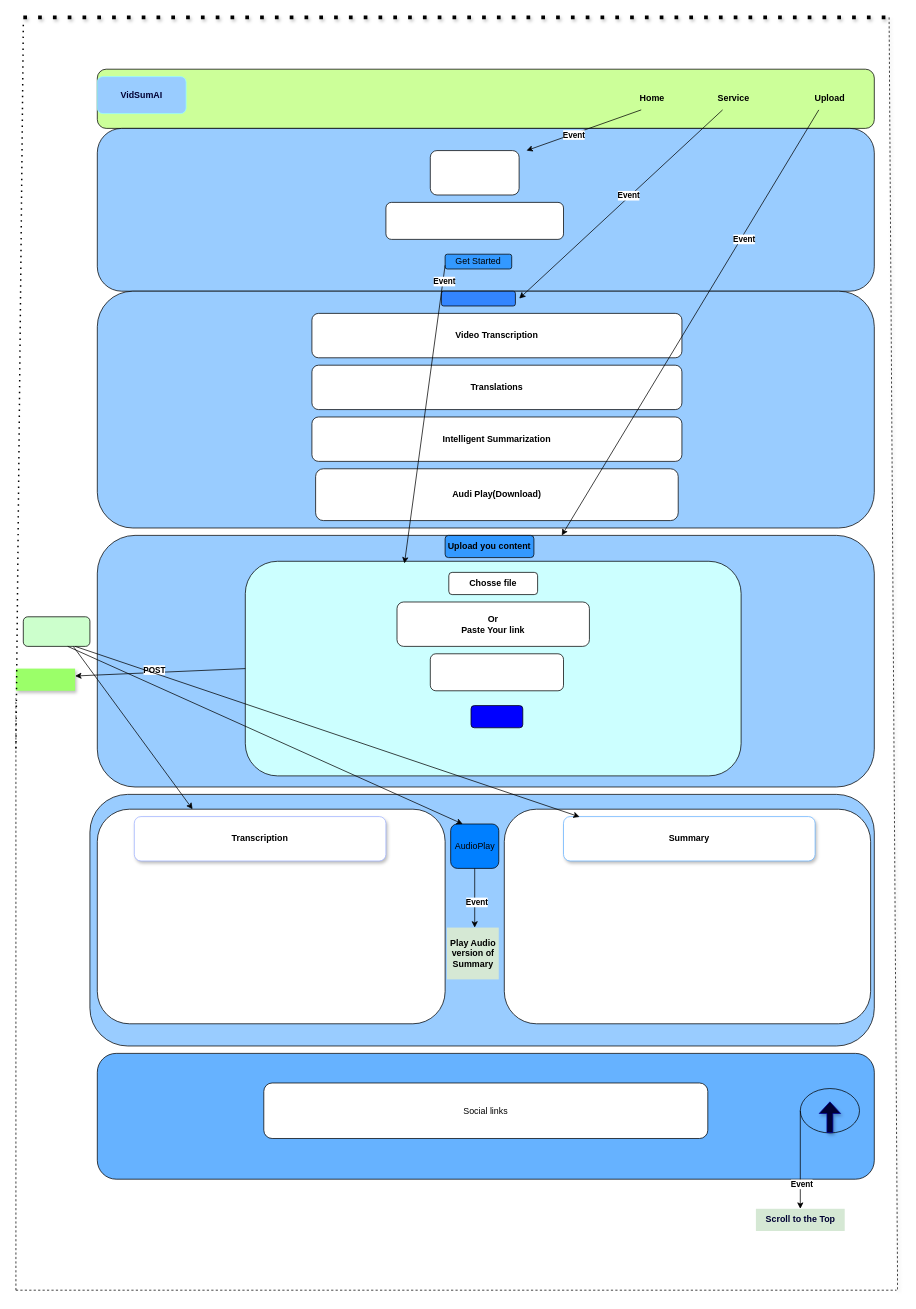
This 916x1309 diagram has some shape labels left out. Each missing label, with the centre of its shape:
api/Submit/: pixel 56 631
Form Data: pixel 46 680
Logo: pixel 474 172
Our Services: pixel 478 298
Select Task([translate,transcribe]): pixel 497 672
Submit: pixel 496 716
VidumAi An Intelligent System for Your Content: pixel 474 220
